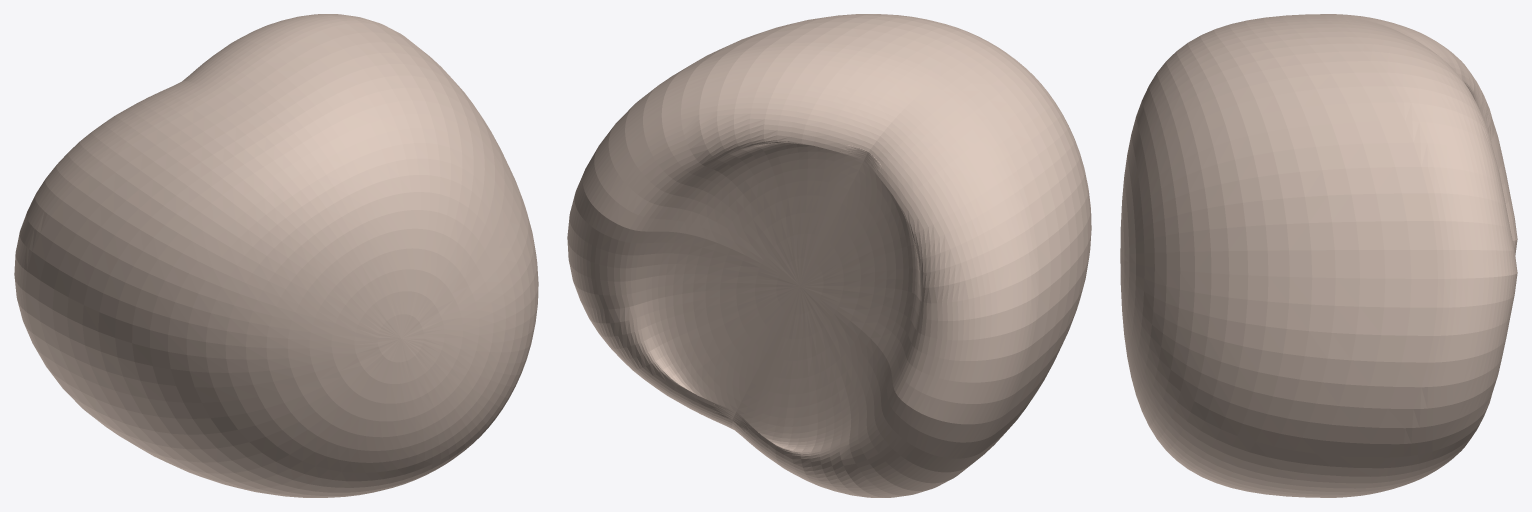
The model's file is tinker.obj.
3 renders of one model, left to right at view 1: azimuth 30°, elevation 25°; view 2: azimuth 150°, elevation 25°; view 3: azimuth 270°, elevation 25°, orthographic. The views are drawn at different scales.
Parts seen in each view (by area): view 1: obj_0; view 2: obj_0; view 3: obj_0.
Part boxes in pixels (box(x1,y1,x2,y2)): obj_0: box(14, 14, 538, 497); obj_0: box(567, 14, 1091, 497); obj_0: box(1120, 14, 1517, 497).
Bounding box in the file's own units: 17.77 × 15.7 × 12.99.
